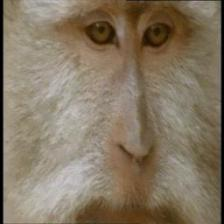monkey: (45, 2, 203, 224)
